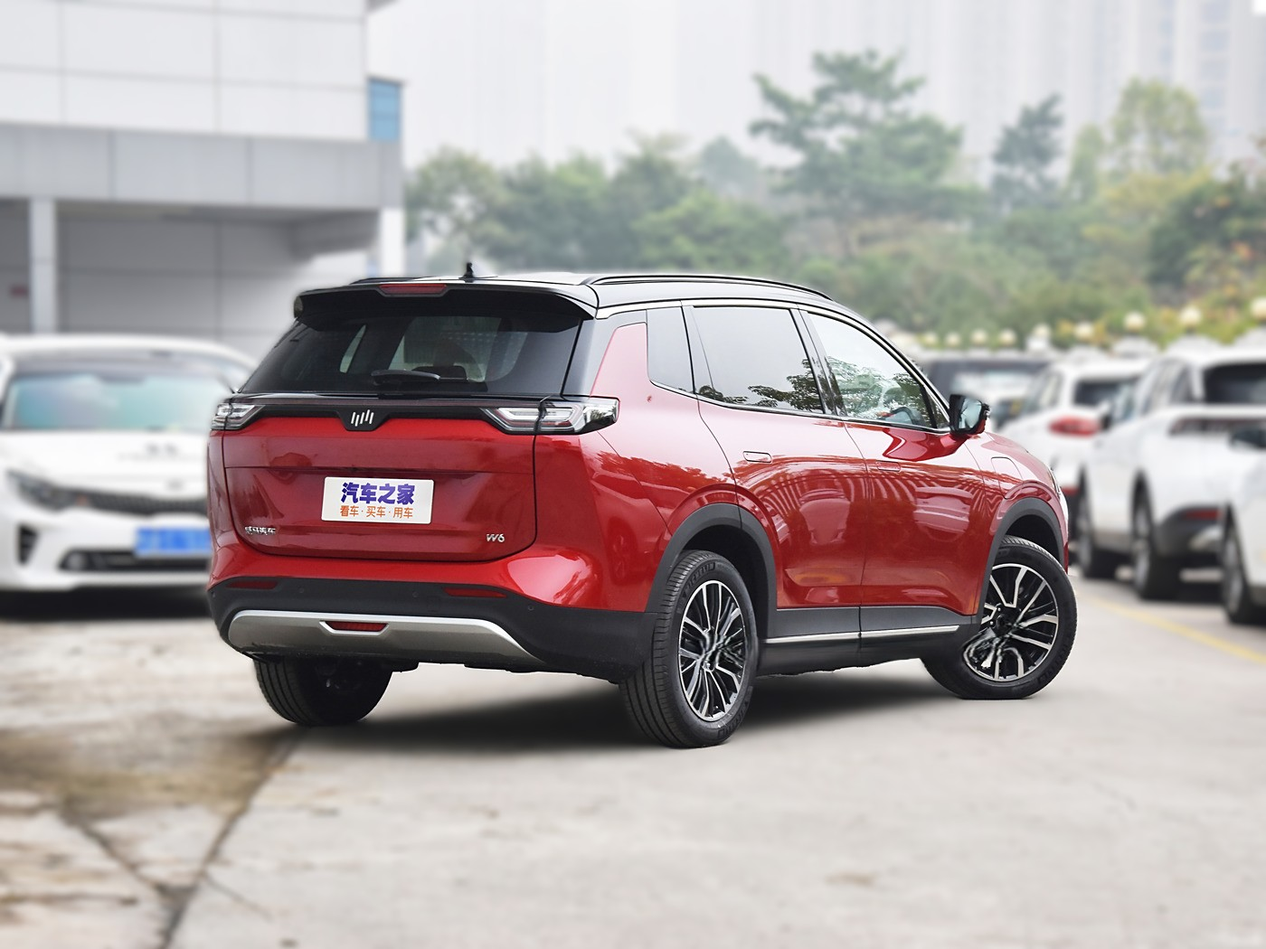WELTMEISTER: (352, 410, 373, 426)
